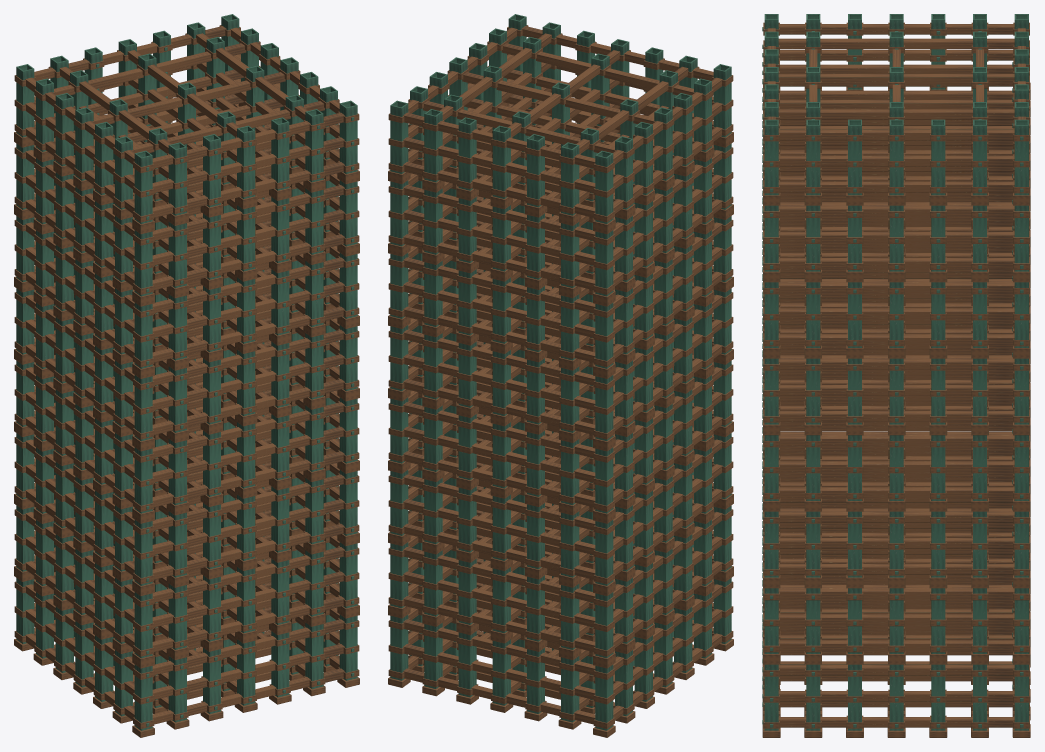
3 renders of one model, left to right at view 1: azimuth 30°, elevation 25°; view 2: azimuth 150°, elevation 25°; view 3: azimuth 270°, elevation 25°, orthographic. The views are drawn at different scales.
Parts seen in each view (by area): view 1: Tier 7 internal tie 0-0.56-0-0.84, Tier 7 internal tie 0-0-0-0.84, Tier 7 internal tie 0--0.56-0-0.84, Tier 1 tie 0-0-0.5, Tier 2 tie 0-0-0.5, Tier 6 tie 0-0-0.5, Tier 0 tie 0-0-0.16, Tier 1 tie 0-0-0.16, Tier 2 tie 0-0-0.16, Tier 3 tie 0-0-0.16, Tier 4 tie 0-0-0.5, Tier 7 tie 0-0-0.84 (+158 smaller); view 2: Tier 7 internal tie 0--0.56-0-0.84, Tier 7 internal tie 0-0-0-0.84, Tier 7 internal tie 0-0.56-0-0.84, Tier 1 tie 2-0-0.5, Tier 2 tie 2-0-0.5, Tier 6 tie 2-0-0.5, Tier 0 tie 2-0-0.16, Tier 1 tie 2-0-0.16, Tier 2 tie 2-0-0.16, Tier 3 tie 2-0-0.16, Tier 4 tie 2-0-0.5, Tier 7 tie 2-0-0.84 (+158 smaller); view 3: Tier 7 internal tie 1--0.56-0-0.84, Tier 7 internal tie 1-0-0-0.84, Tier 7 internal tie 1-0.56-0-0.84, Tier 7 tie 1-0-0.16, Tier 7 tie 1-0-0.5, Tier 7 tie 1-0-0.84, Tier 7 internal tie 1--0.56-0-0.5, Tier 7 internal tie 1-0-0-0.5, Tier 7 internal tie 1--0.56-0-0.16, Tier 1 tie 1-0-0.16, Tier 1 tie 1-0-0.5, Tier 1 tie 1-0-0.84 (+145 smaller).
Part boxes in pixels (x1,y1,x2,y2): Tier 7 internal tie 0-0.56-0-0.84: (54,43,246,95); Tier 7 internal tie 0-0-0-0.84: (93,72,285,124); Tier 7 internal tie 0--0.56-0-0.84: (133,101,324,152); Tier 1 tie 0-0-0.5: (152,571,344,627); Tier 2 tie 0-0-0.5: (152,499,344,554); Tier 6 tie 0-0-0.5: (152,209,344,265); Tier 0 tie 0-0-0.16: (152,668,344,724); Tier 1 tie 0-0-0.16: (152,596,344,651); Tier 2 tie 0-0-0.16: (152,523,344,579); Tier 3 tie 0-0-0.16: (152,451,344,507); Tier 4 tie 0-0-0.5: (152,354,344,410); Tier 7 tie 0-0-0.84: (152,112,344,168); Tier 7 internal tie 0--0.56-0-0.84: (501,43,693,95); Tier 7 internal tie 0-0-0-0.84: (462,72,654,124); Tier 7 internal tie 0-0.56-0-0.84: (423,101,614,152); Tier 1 tie 2-0-0.5: (403,571,595,627); Tier 2 tie 2-0-0.5: (403,499,595,554); Tier 6 tie 2-0-0.5: (403,209,595,265); Tier 0 tie 2-0-0.16: (403,668,595,724); Tier 1 tie 2-0-0.16: (403,596,595,651); Tier 2 tie 2-0-0.16: (403,523,595,579); Tier 3 tie 2-0-0.16: (403,451,595,507); Tier 4 tie 2-0-0.5: (403,354,595,410); Tier 7 tie 2-0-0.84: (403,112,595,168); Tier 7 internal tie 1--0.56-0-0.84: (778,38,1014,49); Tier 7 internal tie 1-0-0-0.84: (778,74,1014,84); Tier 7 internal tie 1-0.56-0-0.84: (778,109,1014,119); Tier 7 tie 1-0-0.16: (778,181,1014,192); Tier 7 tie 1-0-0.5: (778,155,1014,166); Tier 7 tie 1-0-0.84: (778,129,1014,140); Tier 7 internal tie 1--0.56-0-0.5: (778,64,1014,73); Tier 7 internal tie 1-0-0-0.5: (778,100,1014,109); Tier 7 internal tie 1--0.56-0-0.16: (780,90,1013,99); Tier 1 tie 1-0-0.16: (778,640,1014,650); Tier 1 tie 1-0-0.5: (778,614,1014,624); Tier 1 tie 1-0-0.84: (778,588,1014,598).
Bounding box in the file's own units: 1.8 × 4.53 × 1.8.
Materials: 2 (2 with a texture image).
